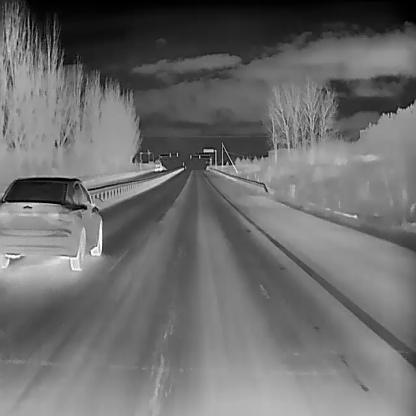car: (0, 175, 102, 271), (153, 158, 162, 171)
